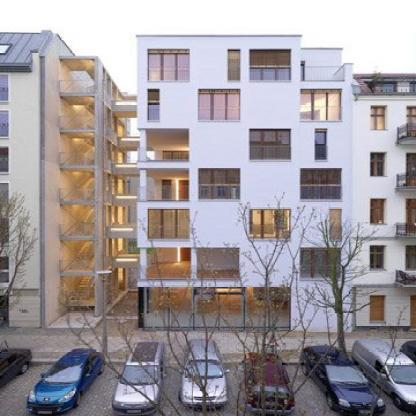Balcony: (138, 267, 239, 280), (138, 147, 189, 162), (138, 186, 189, 201), (301, 67, 345, 81)
Building Outline: (135, 35, 354, 333)
Door: (295, 62, 304, 83)
Facade: (135, 35, 355, 333)
Floor Slab: (137, 122, 353, 128), (138, 241, 353, 247), (138, 280, 352, 286), (138, 82, 352, 88), (138, 162, 352, 168), (138, 202, 353, 207)
Glass Wall: (143, 286, 290, 328), (198, 90, 241, 122), (300, 90, 342, 121), (148, 50, 189, 81), (250, 50, 290, 81), (250, 129, 290, 160), (250, 208, 290, 239), (300, 169, 341, 199), (148, 208, 189, 238), (199, 169, 240, 199), (300, 248, 341, 278)
Pillar: (140, 129, 147, 163), (140, 248, 147, 280), (139, 168, 145, 201), (191, 248, 197, 279)
Window: (329, 208, 341, 240), (228, 50, 240, 81), (315, 129, 327, 160), (148, 90, 159, 121)
